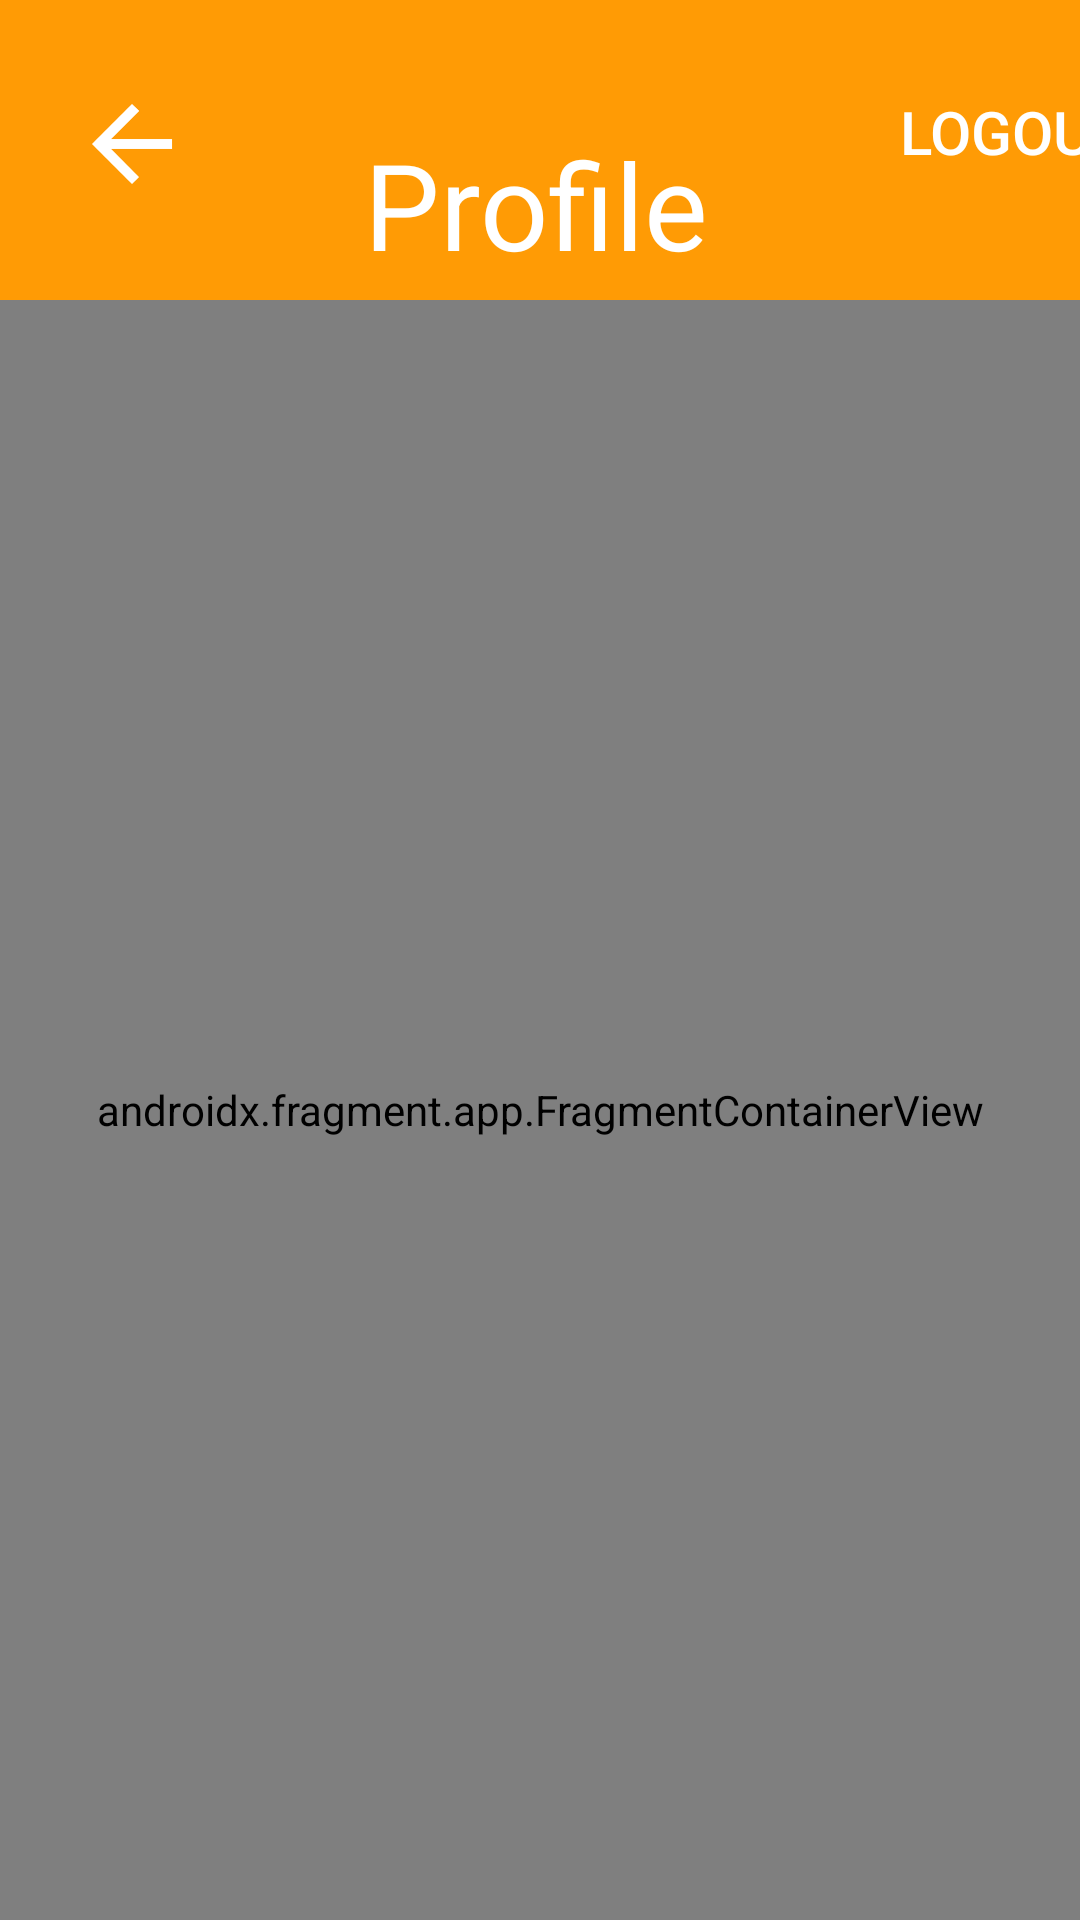

Screen size 1080x1920. Icon name, then its box in pixels as (x1, y1, x2, y2):
android arrow back: (92, 104, 172, 184)
